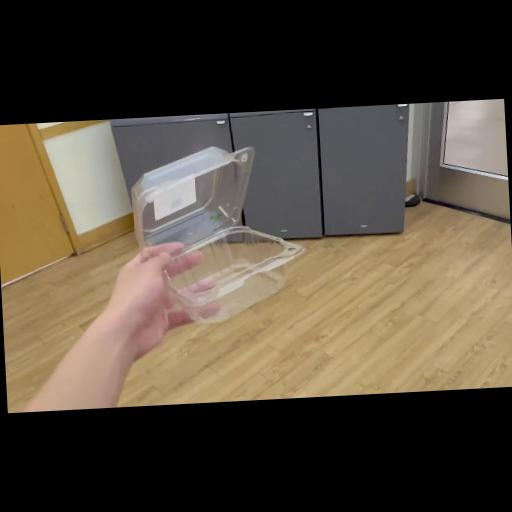small_plastic_container: (120, 139, 320, 333)
